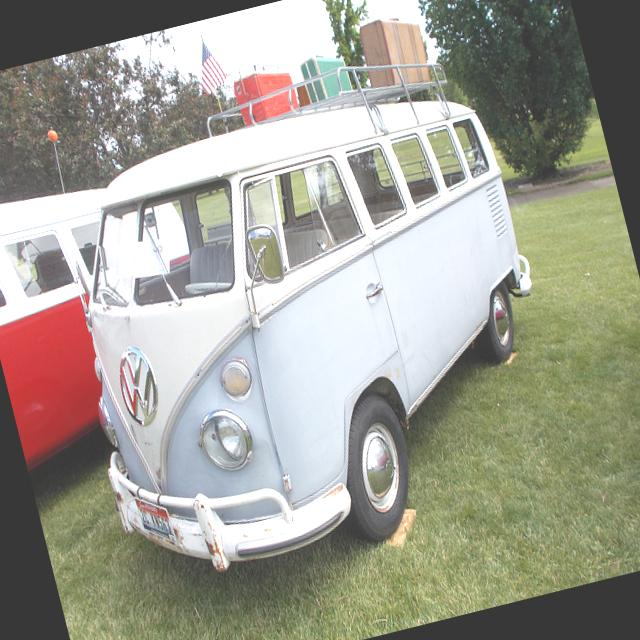Vehicle: (25, 34, 588, 602), (0, 174, 168, 475)
